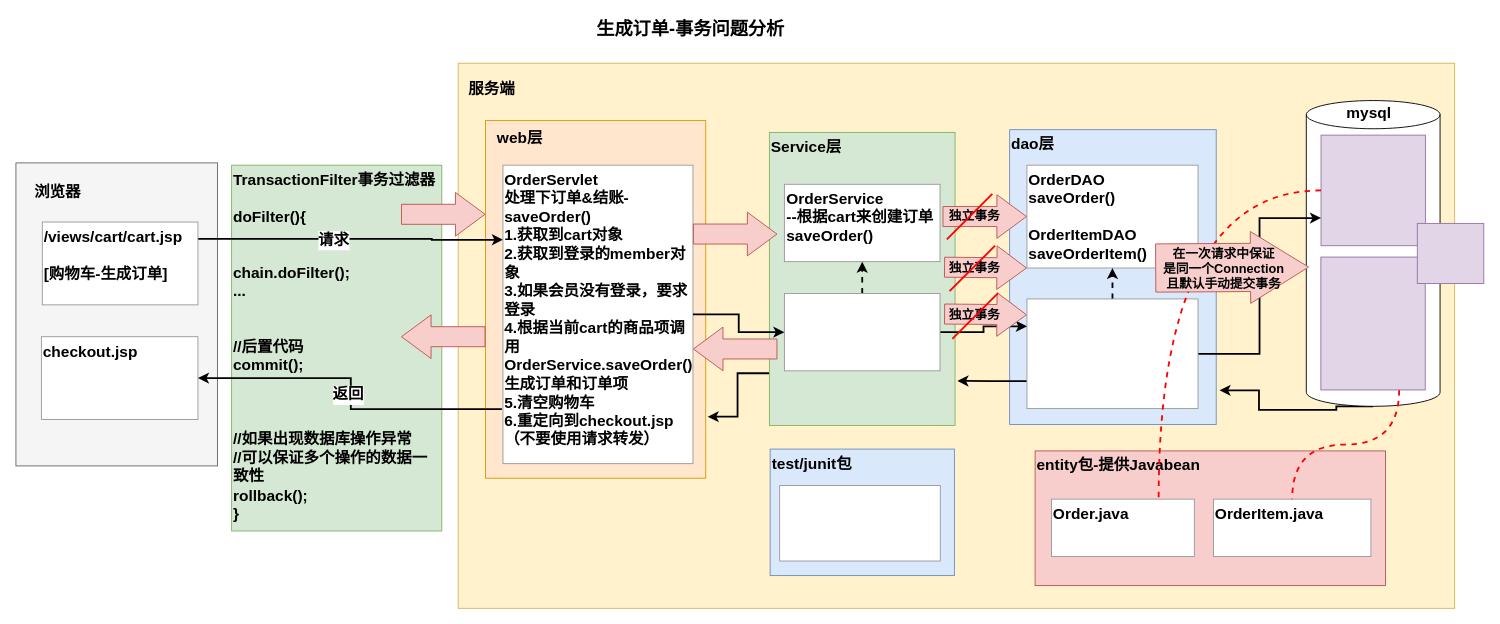
Some shapes in this 1500 by 624 pixel diagram are drawn without their labels. Here are the shapes that lost their labels. From the top down, the centre of each, then its label:
the point at 1372,190: order表 id DATATIME price status member id
the point at 1450,252: furn表
the point at 862,332: OrderServiceImpl saveOrder()
the point at 1372,323: orderItem表 id name count price total_price order_id
the point at 1112,353: OrderDAOImpl saveOrder() OrderItemDAOImpl saveOrderItem()
the point at 859,523: OrderDAOTest OrderItemDAOTest OrderServiceTest
